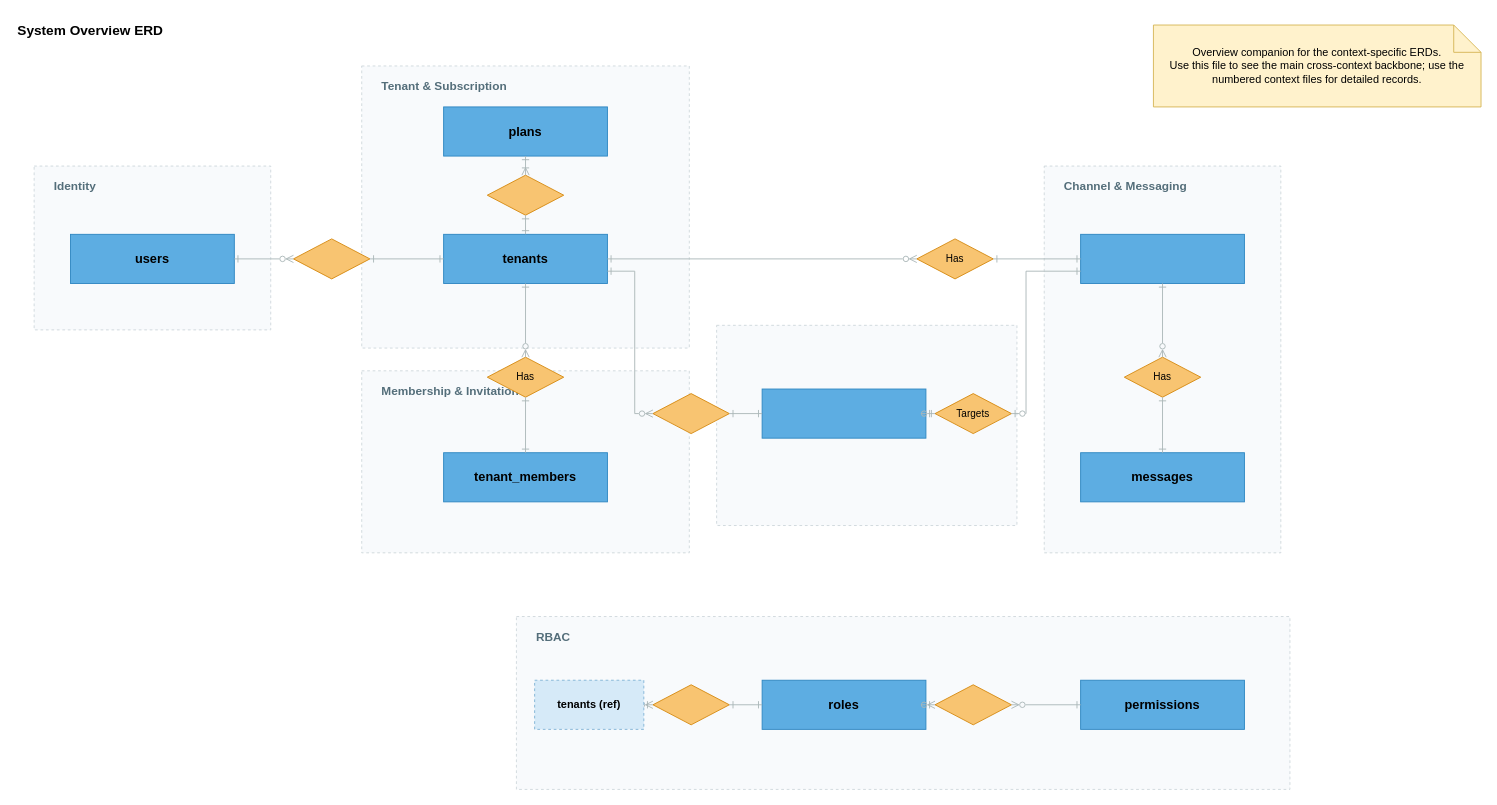
Some shapes in this 1497 by 805 pixel diagram are drawn without their labels. Here are the shapes that lost their labels. From the top down, the centre of each, then its label:
At [525,194]: "Applied To".
At [331,258]: "Creates".
At [1162,258]: "channels".
At [690,413]: "Sends".
At [843,413]: "invitations".
At [690,704]: "Defines".
At [972,704]: "Grants".
